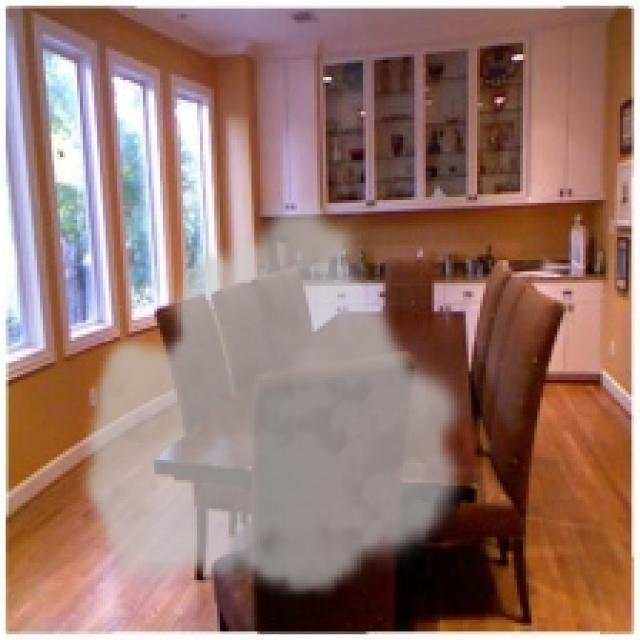smoke: (77, 191, 474, 600)
